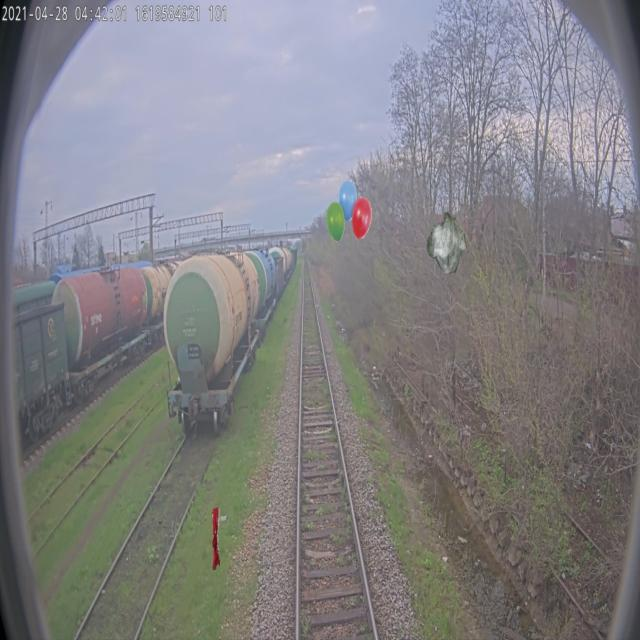balloon: (327, 179, 372, 243)
floating object: (212, 506, 221, 570)
plastic bag: (427, 210, 468, 274)
